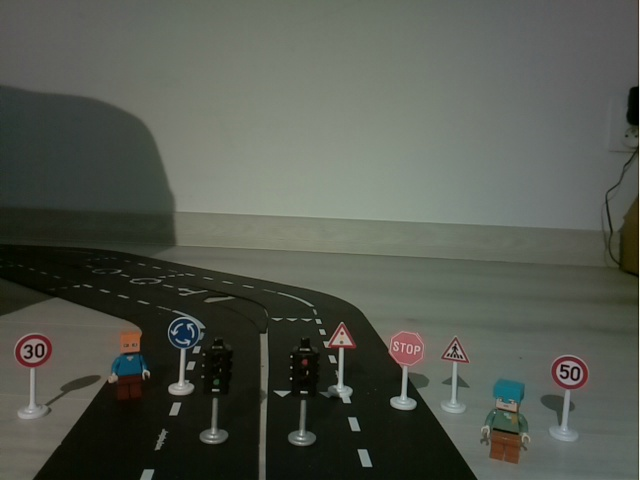green light: (203, 342, 235, 447)
limit 30: (9, 333, 56, 424)
limit 50: (544, 352, 589, 445)
pedestrian sign: (437, 332, 472, 417)
person: (482, 374, 533, 467), (106, 325, 153, 400)
red light: (285, 335, 319, 451)
round: (163, 314, 200, 399)
stop: (386, 328, 426, 415)
traffic light sign: (324, 318, 358, 402)
